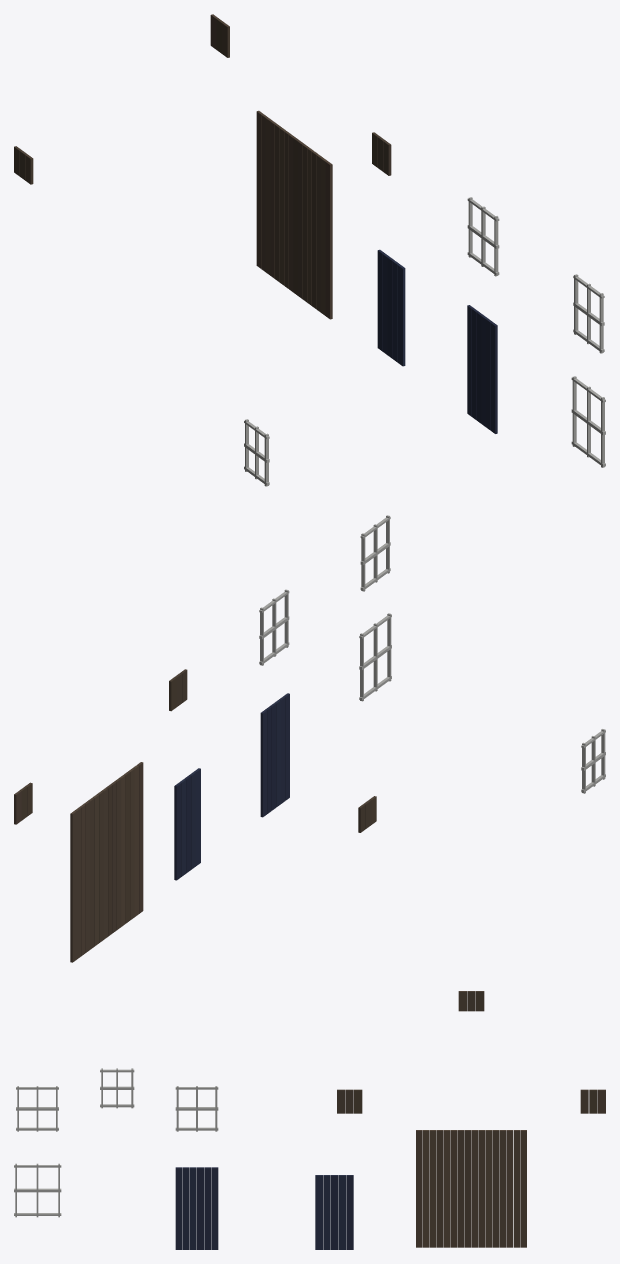
Rendered from SM_Bld_066_Wood.glb.
The picture shows the model from 3 angles, top to bottom: view 1: azimuth 30°, elevation 25°; view 2: azimuth 150°, elevation 25°; view 3: azimuth 270°, elevation 25°; orthographic projection. The views are drawn at different scales.
Visible parts, largest first — view 1: SM_Bld_066_Wood; view 2: SM_Bld_066_Wood; view 3: SM_Bld_066_Wood.
Part boxes in pixels (<box>): SM_Bld_066_Wood: <box>14,14,605,486</box>; SM_Bld_066_Wood: <box>14,515,605,962</box>; SM_Bld_066_Wood: <box>14,991,605,1249</box>.
Size of the model in its own units: 5.74 by 4.2 by 13.79.
